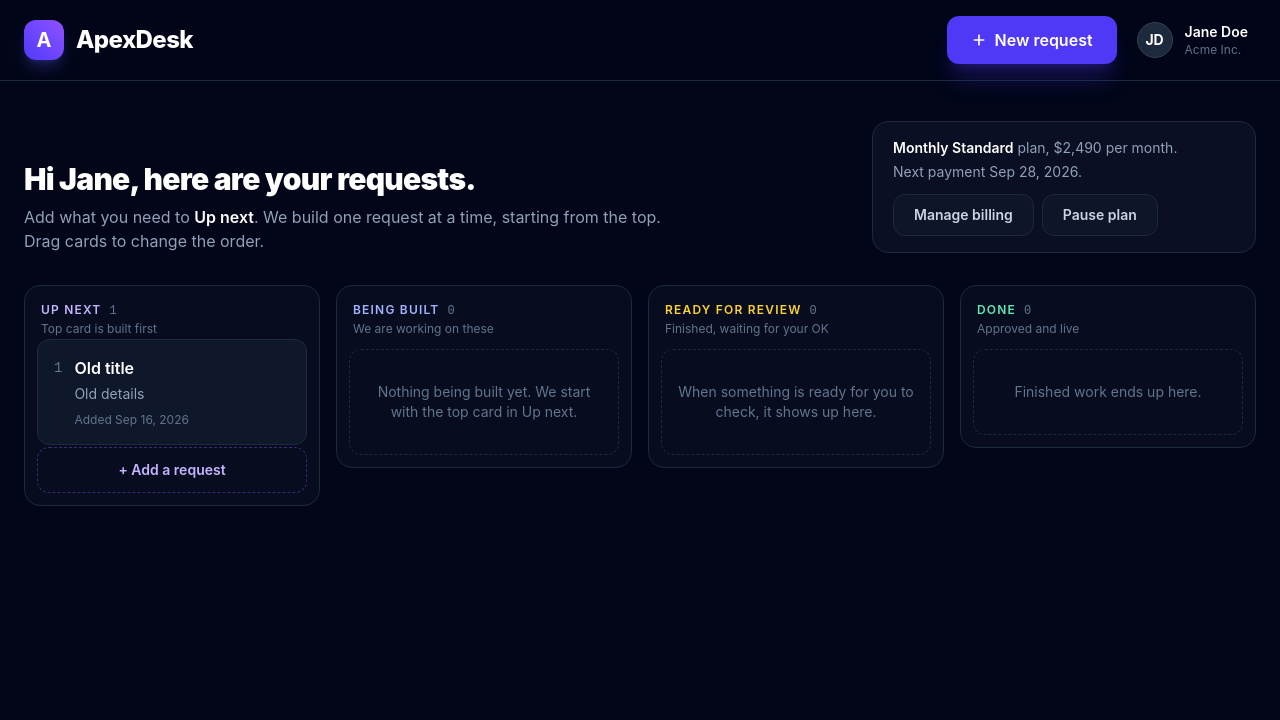
Scenario: DashboardPage request modal › edits a queued request in the modal and saves the change
Expected: the heading "Up next 1" is shown, 41,302 -> 117,318
Click the button "1 Old title Old details Added Sep 16, 2026" at (104, 368), box 38,340 -> 306,444
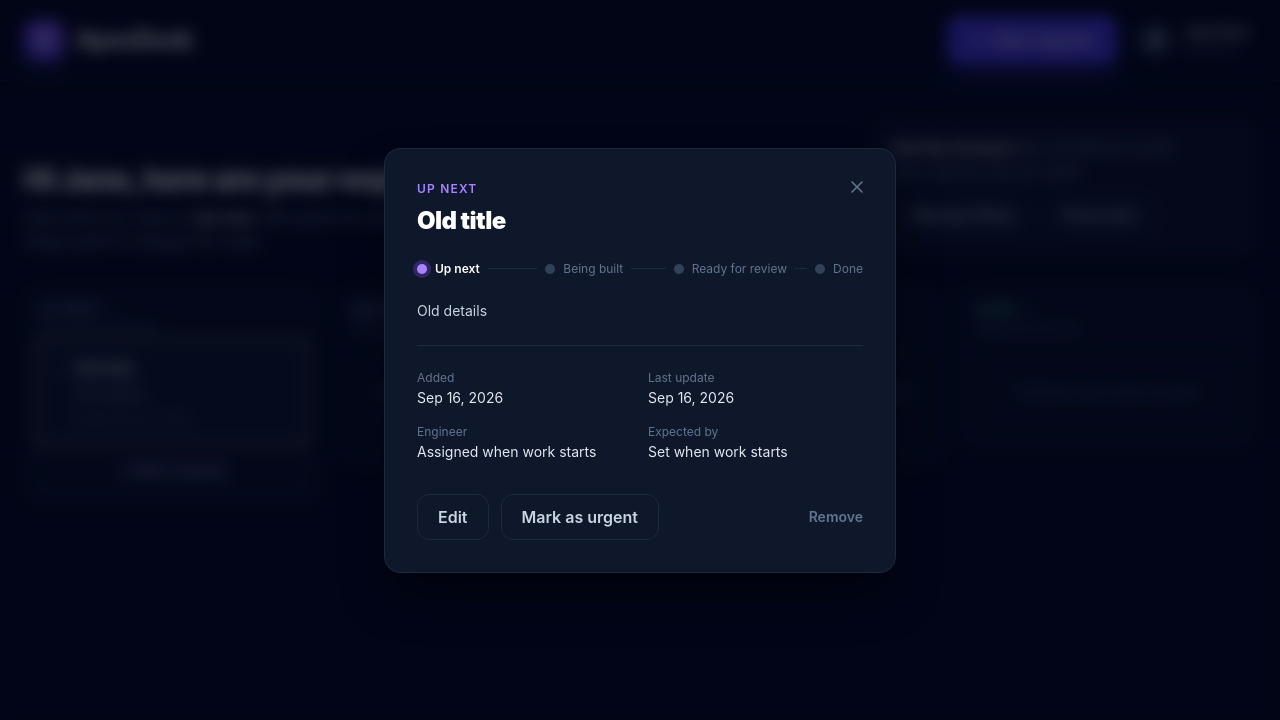
Click the button "Edit" at (453, 516), box 417,494 -> 488,540
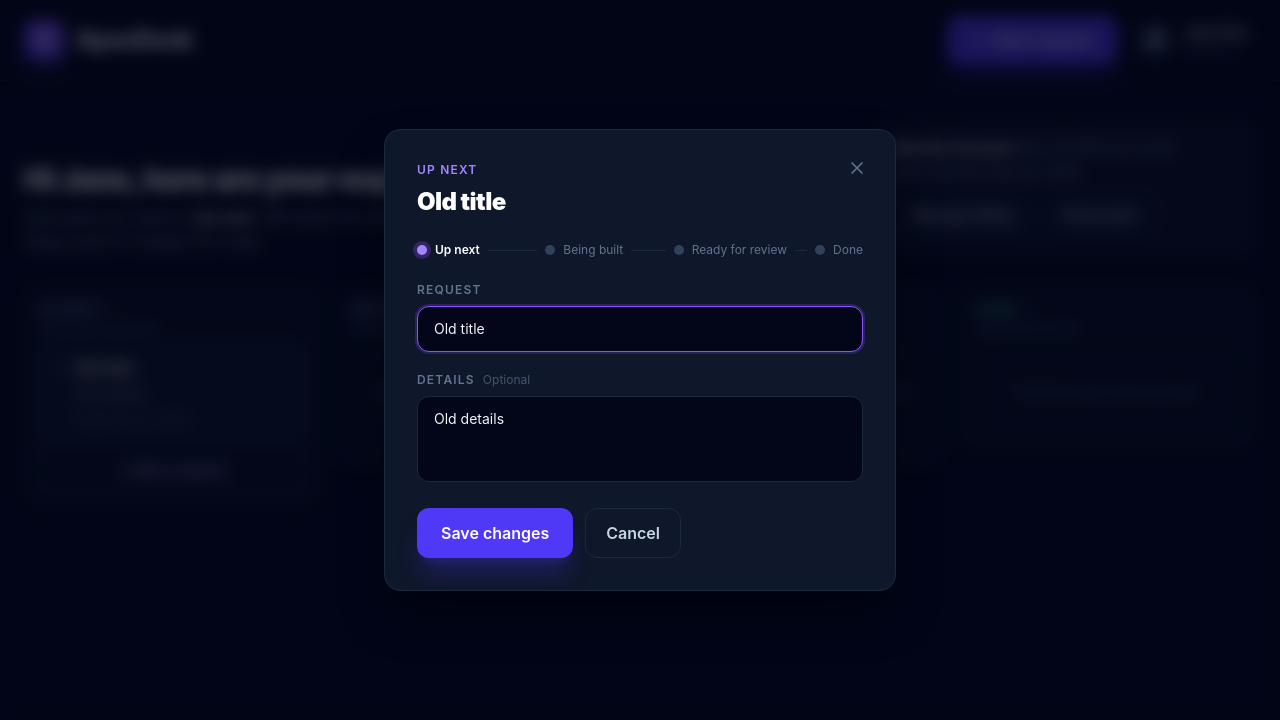
Replace the text in the field showing "Old title" with "New title" at (640, 329), box 417,306 -> 863,352
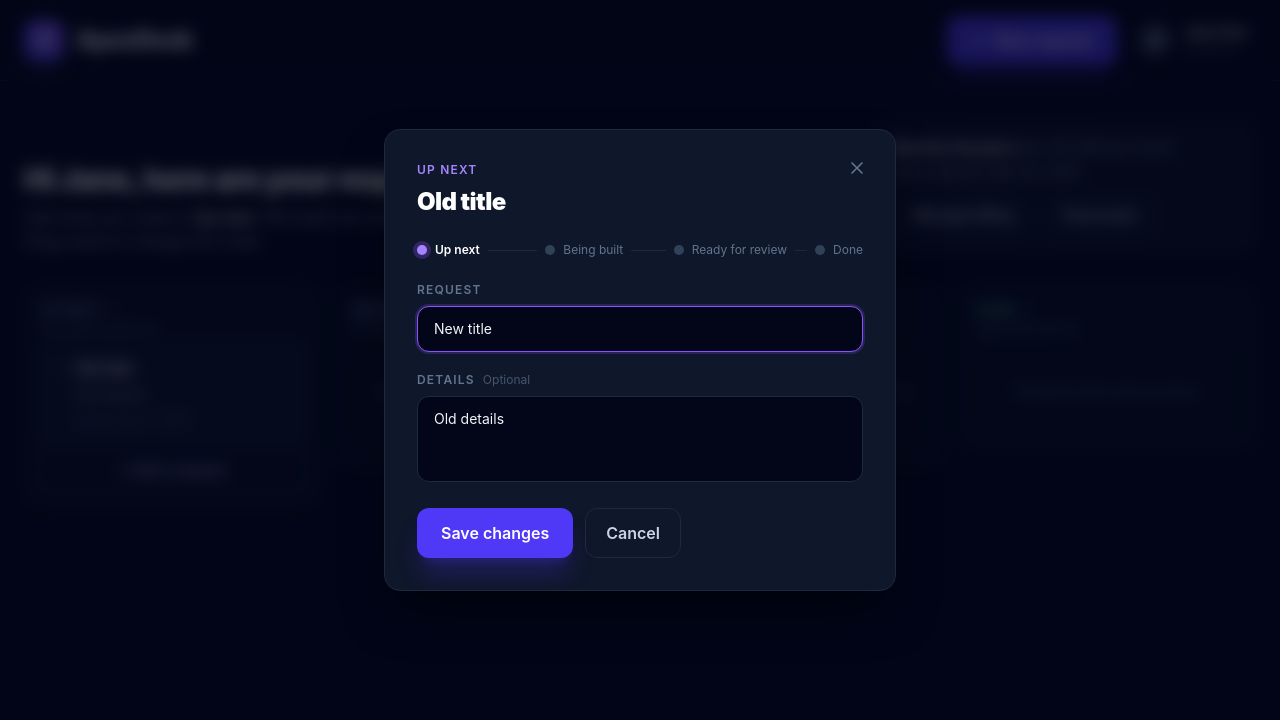
Click the button "Save changes" at (495, 533), box 417,508 -> 573,558
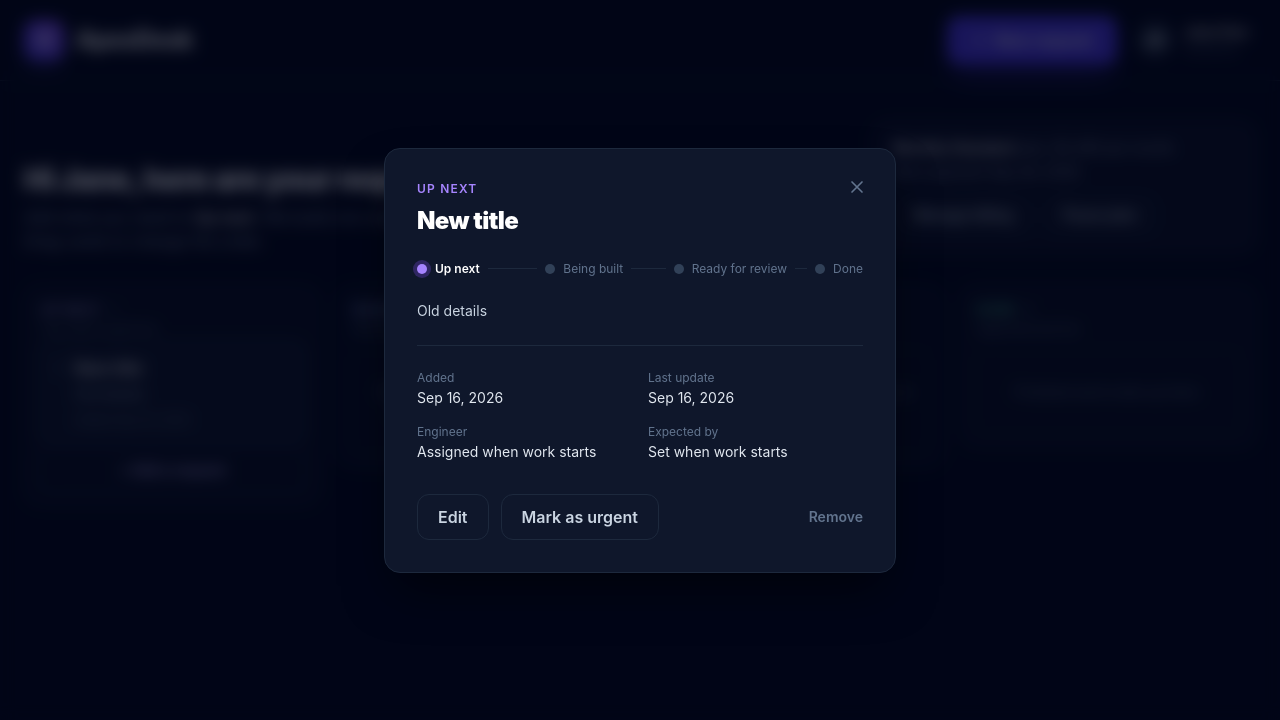
Result: the dialog "New title" is shown at 384,148 -> 896,572
Result: the button "Save changes" is gone
